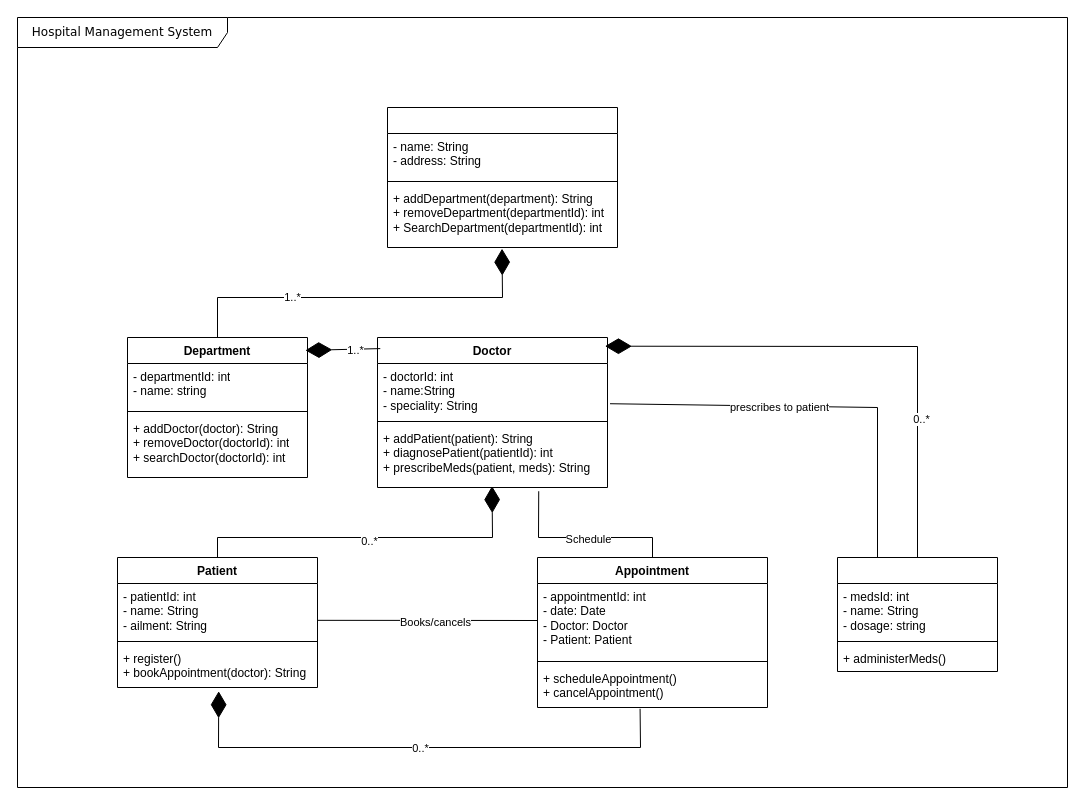
Some shapes in this 1085 by 805 pixel diagram are drawn without their labels. The shapes that lost their labels are listed below. From the top down, each one's box as (x1, y1, x2, y2) in pixels, then its label:
(386, 106, 618, 248): Hospital
(836, 556, 998, 672): Medication
